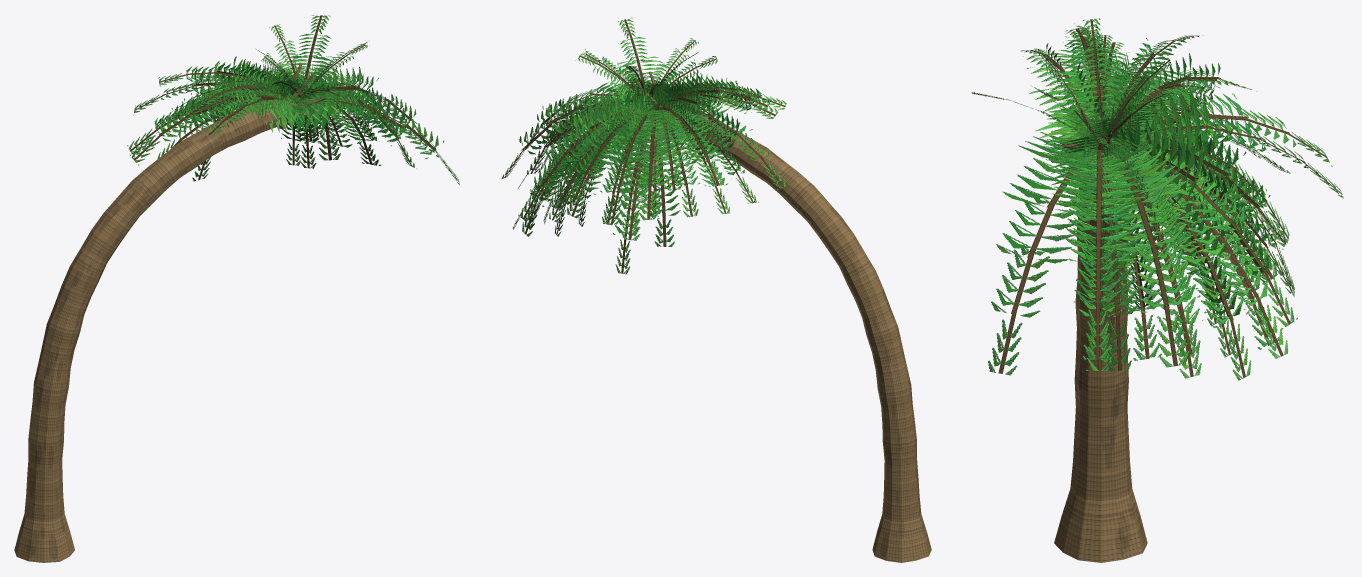
Rendered from PalmTreeLeaning.glb.
3 views of the same model, side by side, from view 1: azimuth 30°, elevation 25°; view 2: azimuth 150°, elevation 25°; view 3: azimuth 270°, elevation 25° (orthographic). The views are drawn at different scales.
Visible parts, largest first — view 1: tree_palm_leaning; view 2: tree_palm_leaning; view 3: tree_palm_leaning.
Part boxes in pixels (box(x1,y1,x2,y2)): tree_palm_leaning: box(14, 15, 459, 562); tree_palm_leaning: box(501, 17, 931, 562); tree_palm_leaning: box(971, 18, 1343, 562).
Size of the model in its own units: 9.9 by 10.18 by 5.28.
Materials: 2 (2 with a texture image).
